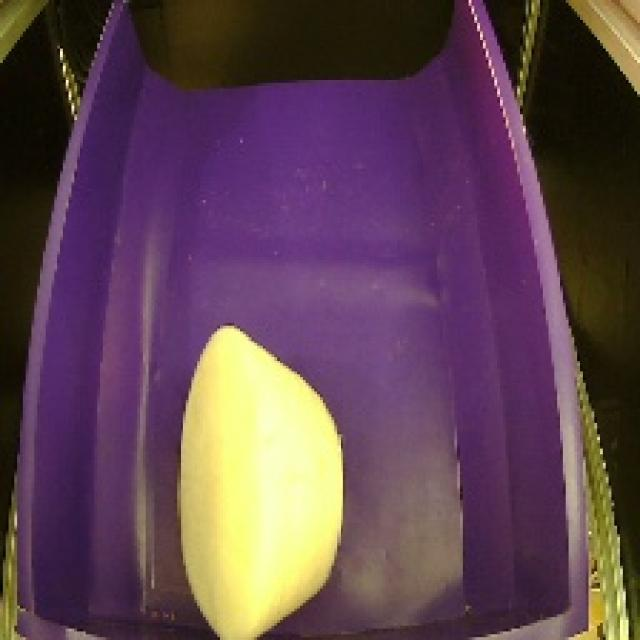white_radish: (165, 310, 346, 640)
